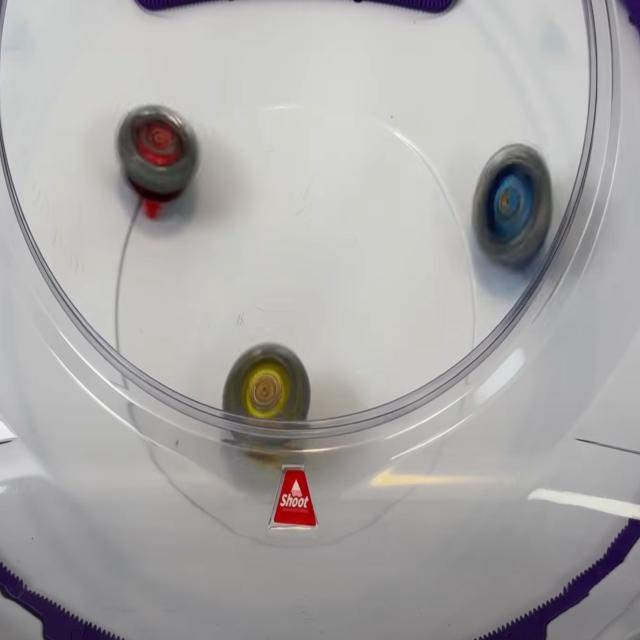Beyblade: (471, 140, 554, 268), (114, 102, 200, 224), (220, 342, 312, 449)
